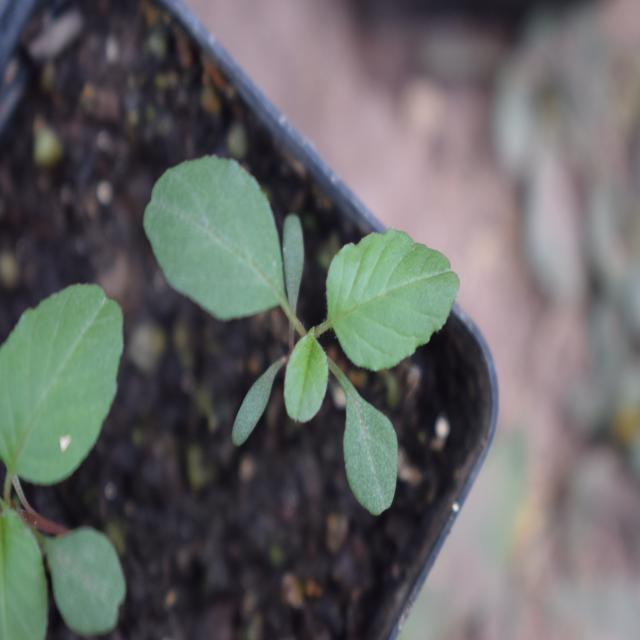pigweed: (136, 152, 472, 507)
